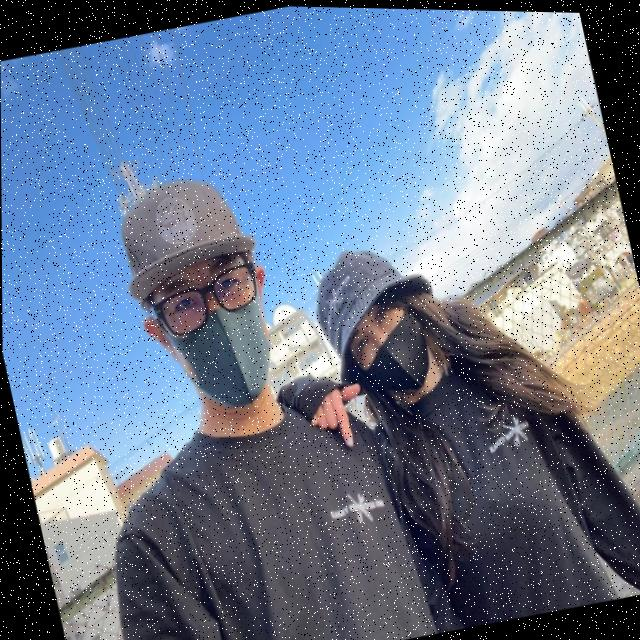illegal_helmet: (102, 158, 296, 435), (297, 225, 461, 419)
